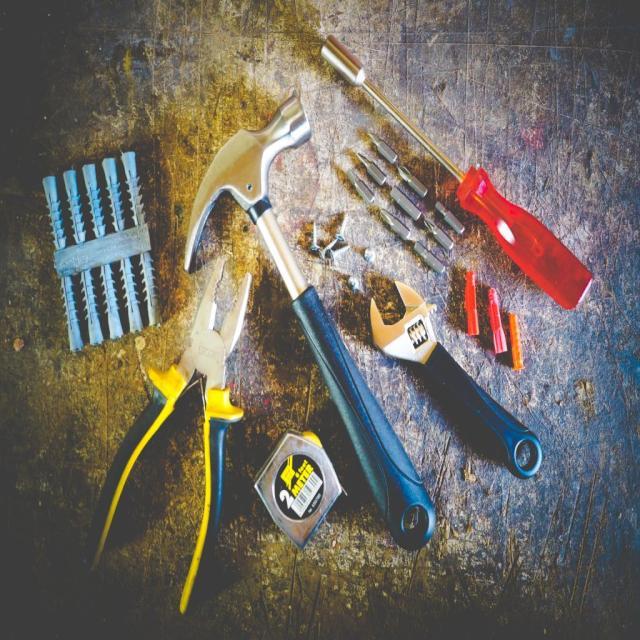Screwdriver: (321, 35, 592, 309)
